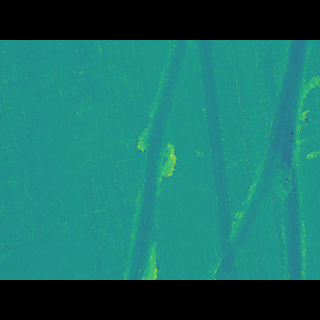Loch: (210, 68, 311, 250), (120, 68, 195, 251)
